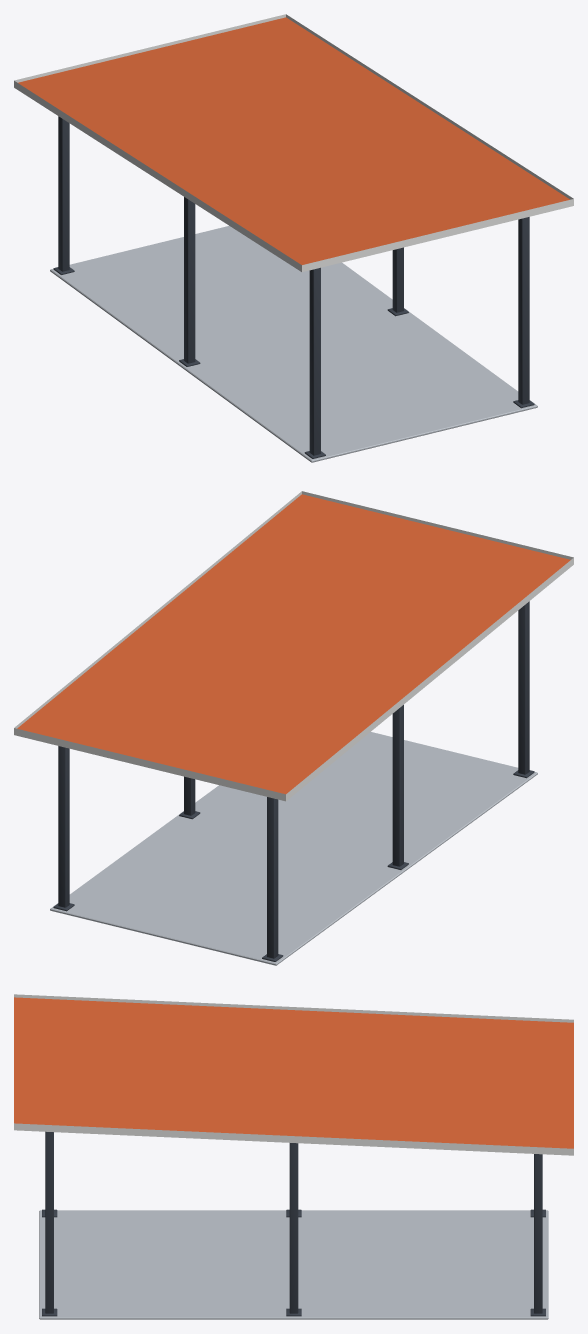
Rendered from telheiro_3x6m.glb.
3 views of the same model, one above another, from view 1: azimuth 30°, elevation 25°; view 2: azimuth 150°, elevation 25°; view 3: azimuth 270°, elevation 25° (orthographic). The views are drawn at different scales.
Parts seen in each view (by area): view 1: telheiro_3x6m; view 2: telheiro_3x6m; view 3: telheiro_3x6m.
Part boxes in pixels (x1,y1,x2,y2): telheiro_3x6m: (14, 14, 573, 462); telheiro_3x6m: (14, 491, 573, 965); telheiro_3x6m: (14, 994, 573, 1319).
Size of the model in its own units: 3.6 by 2.69 by 6.6.
4 materials, 1 textured.
